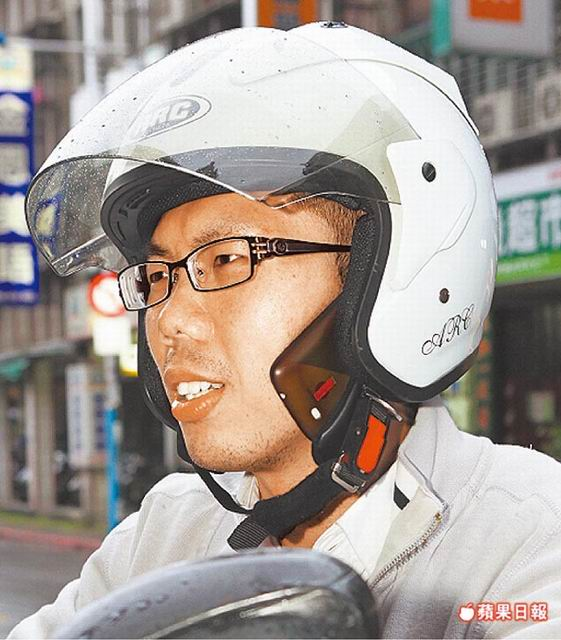helmet: (83, 55, 510, 358)
